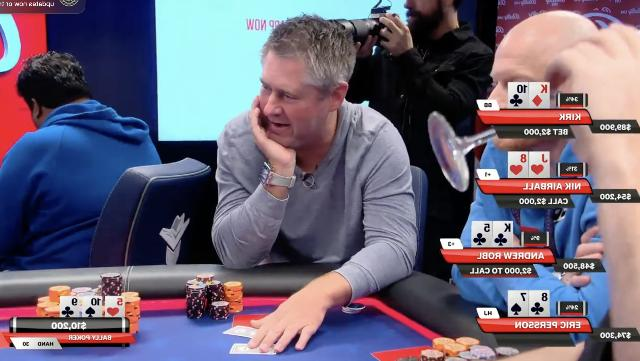10C: (509, 82, 529, 108)
10S: (82, 297, 101, 317)
5C: (472, 221, 492, 247)
5H: (106, 297, 124, 317)
7S: (508, 291, 528, 317)
8C: (530, 292, 548, 316)
8H: (508, 152, 528, 178)
9C: (60, 296, 78, 318)
JH: (529, 152, 549, 178)
KC: (494, 221, 512, 247)
KD: (530, 83, 548, 109)
